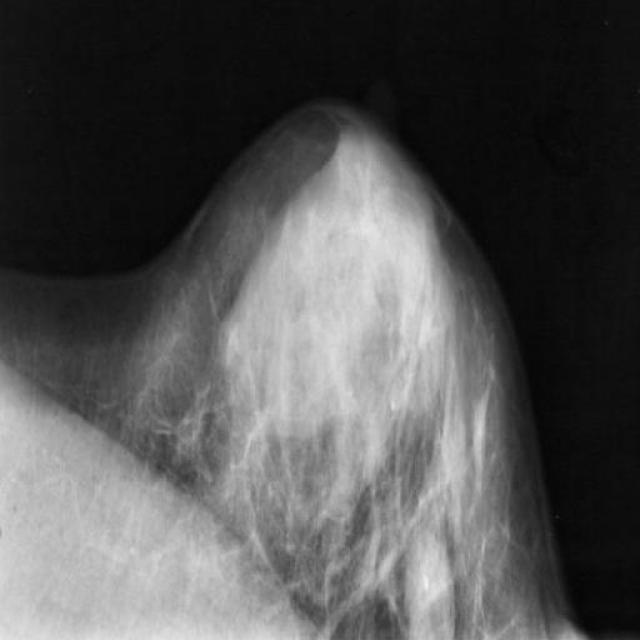cancer: (409, 524, 459, 636)
